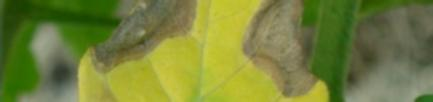Tomato Early blight leaf: (68, 0, 318, 102)
